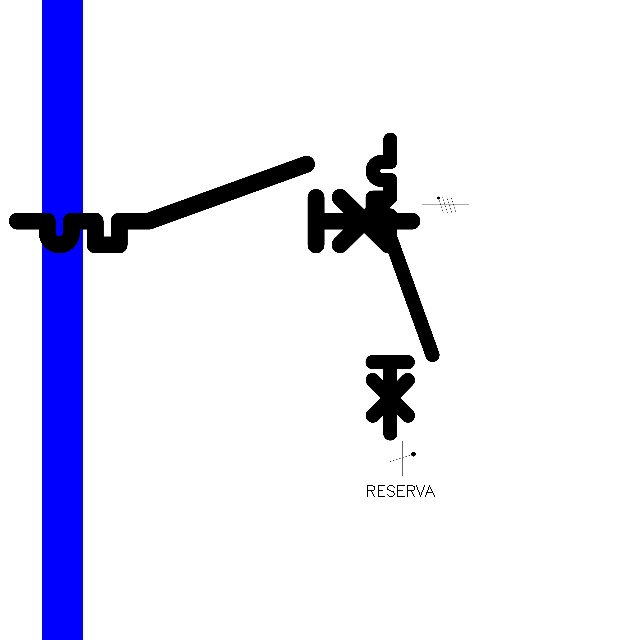interruptor_termomagnetico: (7, 154, 422, 255), (365, 132, 440, 441)
